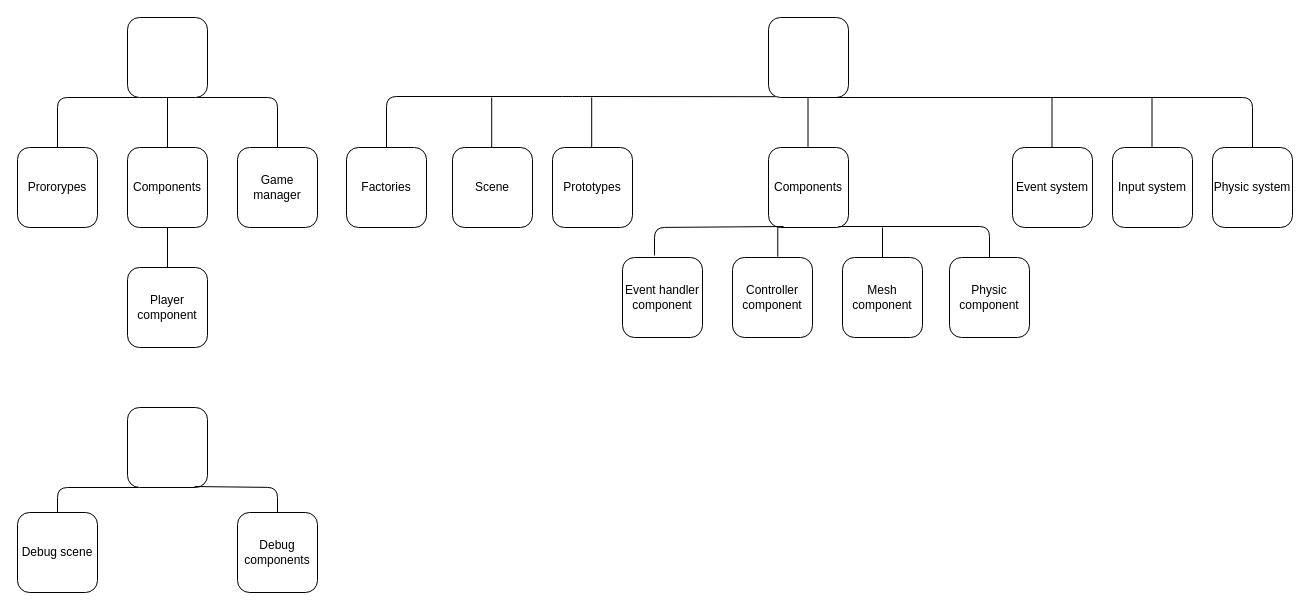
Some shapes in this 1310 by 610 pixel diagram are drawn without their labels. The centre of each missing label's shape, as x and y in pixels:
Application: pixel 167 57
Debug engine: pixel 167 447
Engine: pixel 808 57
